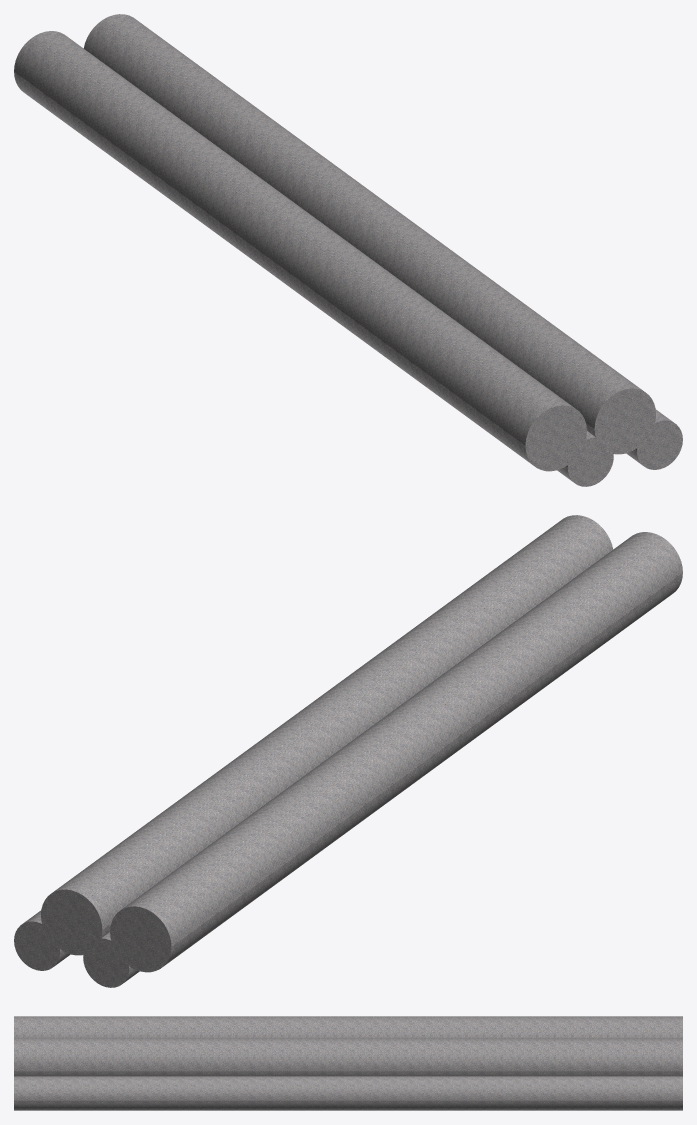
3 renders of one model, top to bottom at view 1: azimuth 30°, elevation 25°; view 2: azimuth 150°, elevation 25°; view 3: azimuth 270°, elevation 25°, orthographic. The views are drawn at different scales.
Visible parts, largest first — view 1: 0_1_3_3_1_3_0_1_2; view 2: 0_1_3_3_1_3_0_1_2; view 3: 0_1_3_3_1_3_0_1_2.
Boxes of the visible parts, bbox=[...] form: 0_1_3_3_1_3_0_1_2: bbox=[14, 14, 682, 486]; 0_1_3_3_1_3_0_1_2: bbox=[14, 515, 682, 987]; 0_1_3_3_1_3_0_1_2: bbox=[14, 1016, 682, 1110].
Bounding box in the file's own units: 2.05 × 1.1 × 11.53.
Materials: 4 (4 with a texture image).
